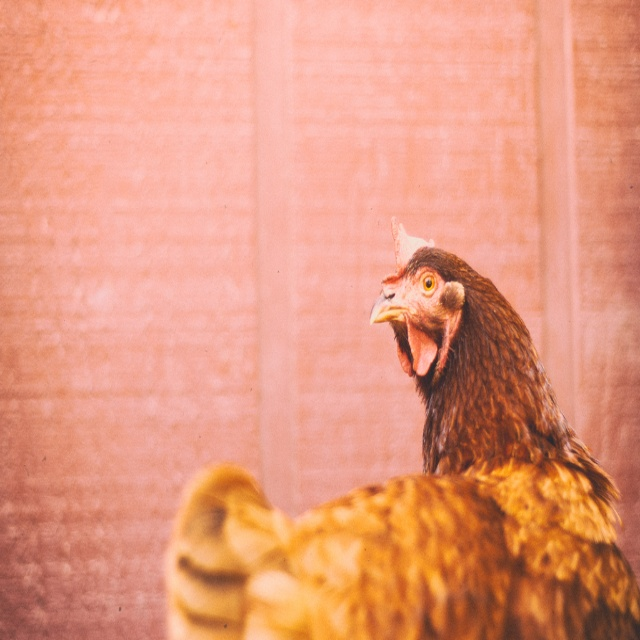Chicken: (163, 210, 640, 639)
